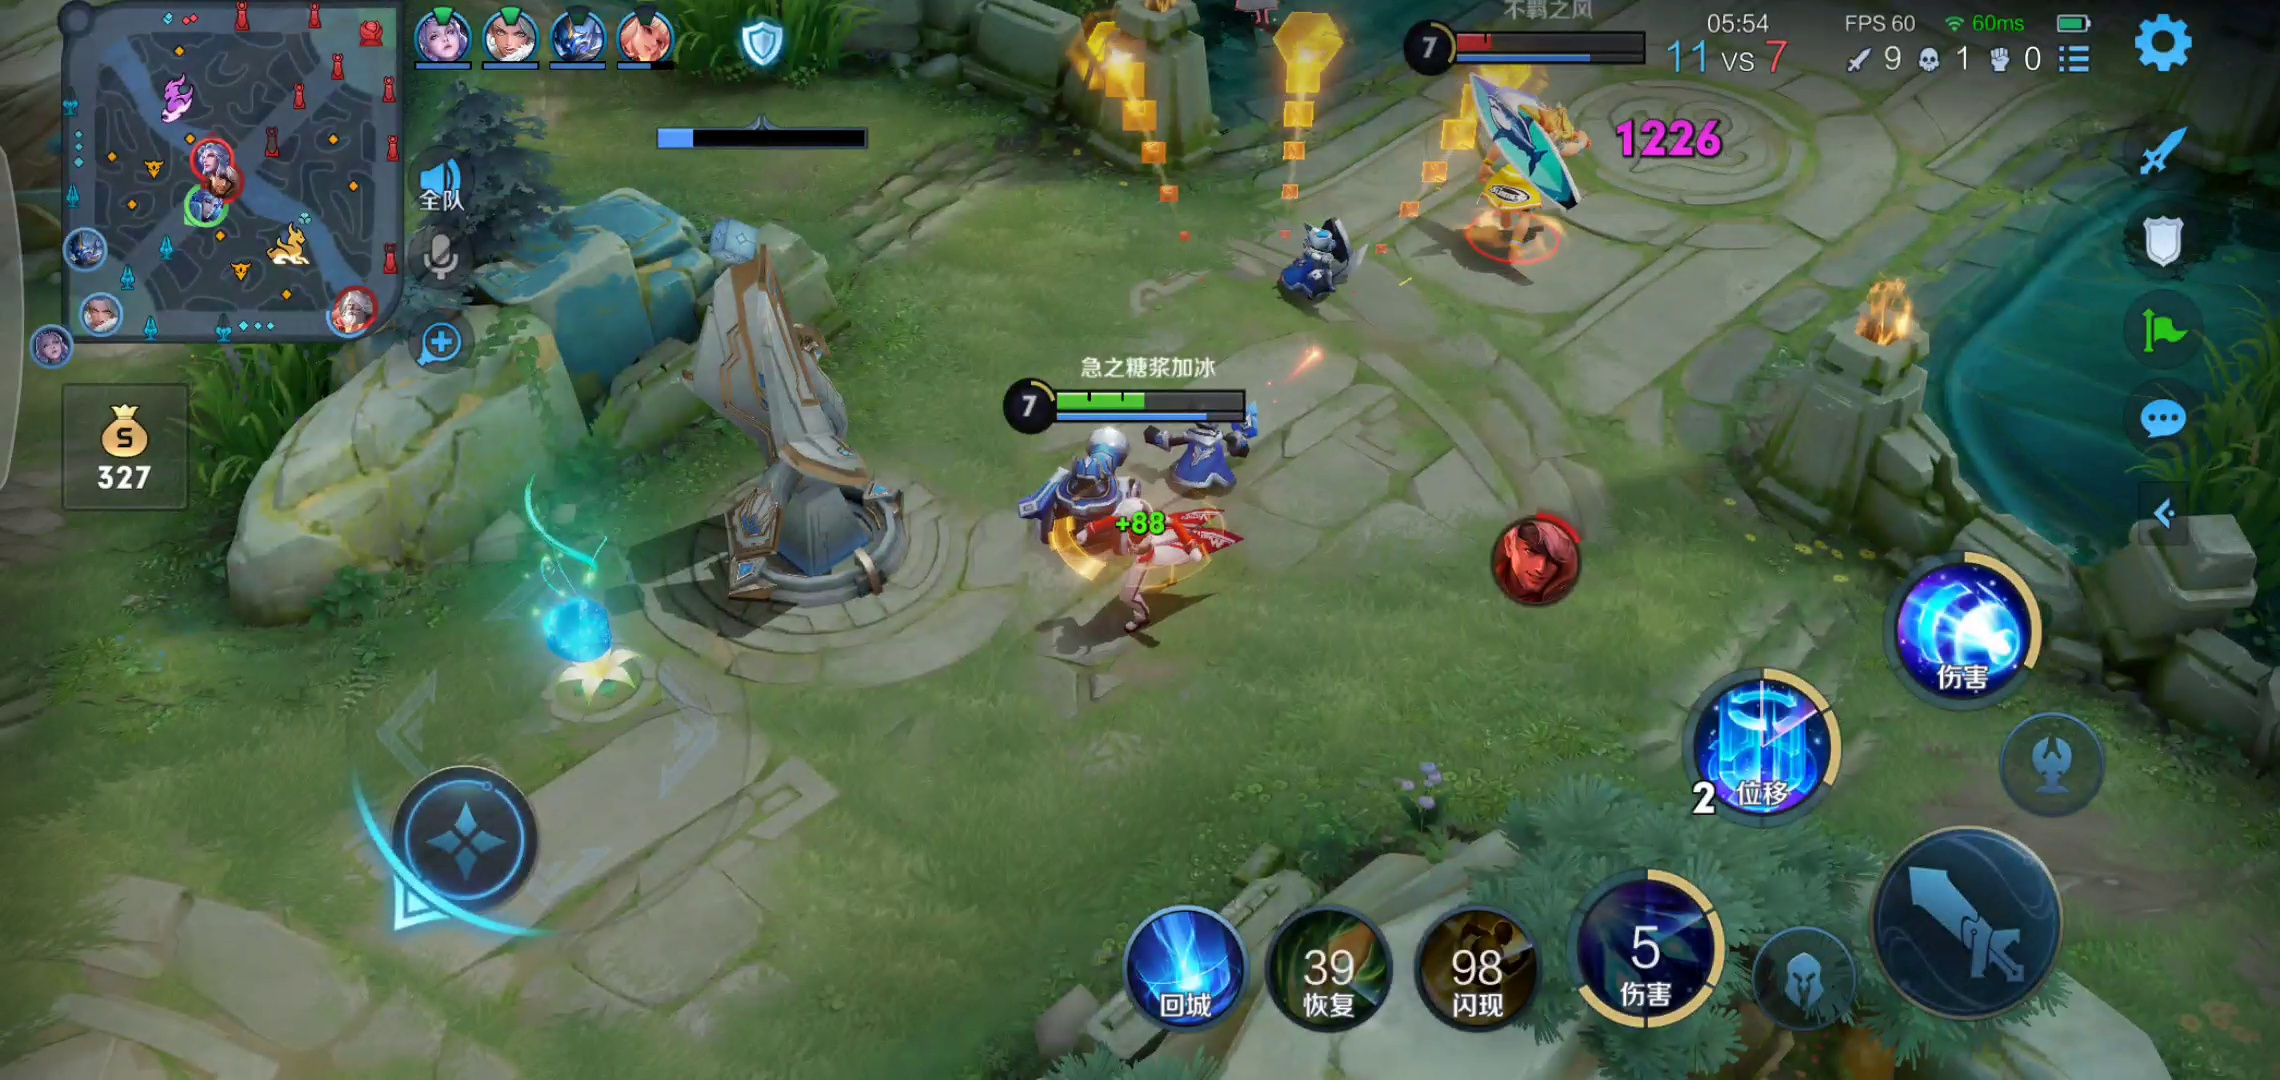grass: (2169, 343, 2279, 558), (188, 358, 327, 496), (644, 4, 864, 81)
hero: (1424, 76, 1602, 262), (1092, 507, 1232, 628)
soldier: (1024, 426, 1157, 558), (1253, 206, 1381, 308), (1149, 398, 1272, 501)
tower: (651, 221, 947, 606)
